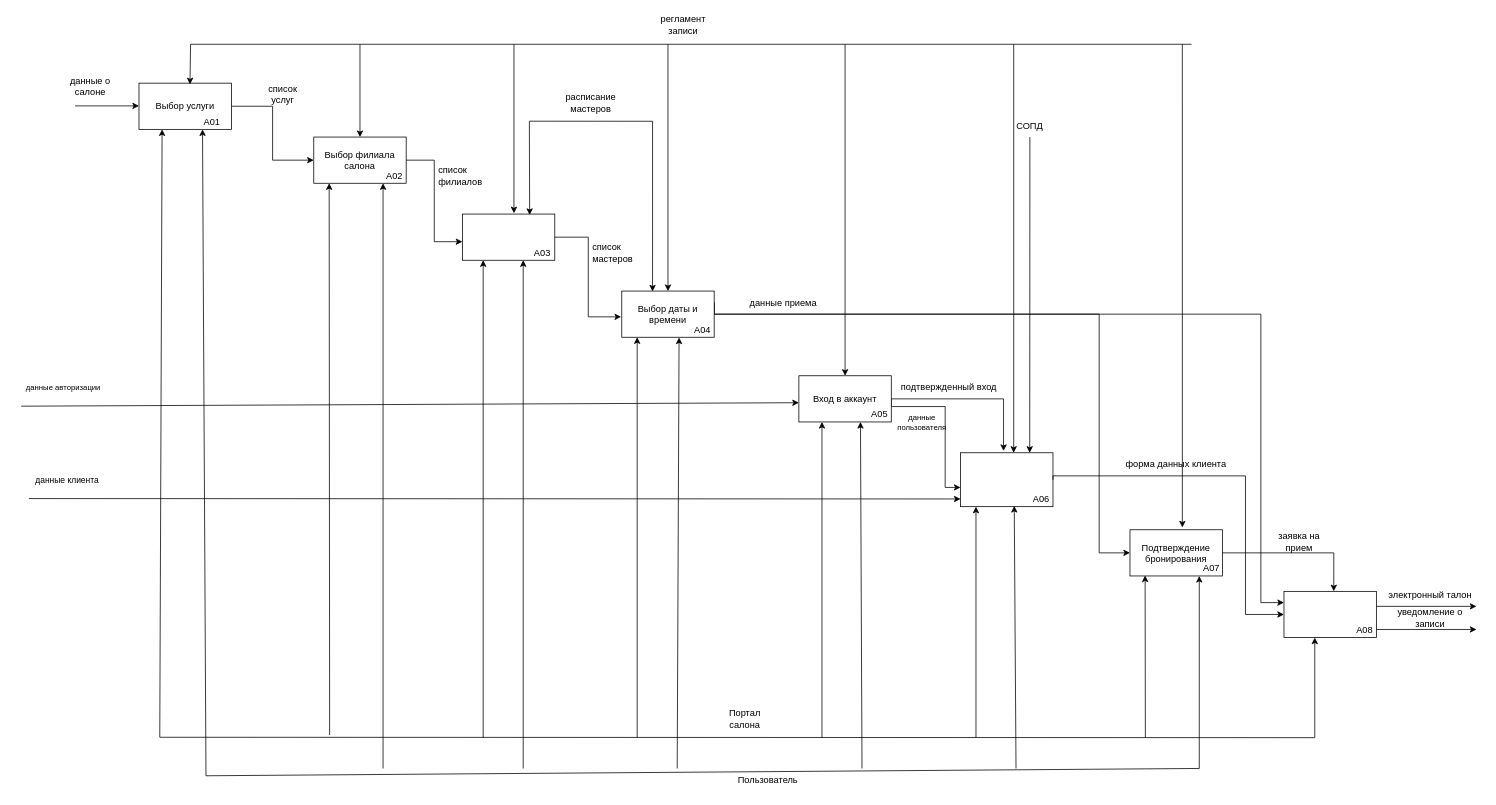
The diagram is 1496 pixels wide and 805 high, and some of its shapes have lost their labels. The shapes that lost their labels are listed below. From the top down, each one's box as (x1, y1, x2, y2) in pixels, then its label:
(462, 213, 555, 260): Выбор мастера
(960, 452, 1053, 507): Заполнение данных о клиенте
(1283, 591, 1376, 638): Формирование заказа
